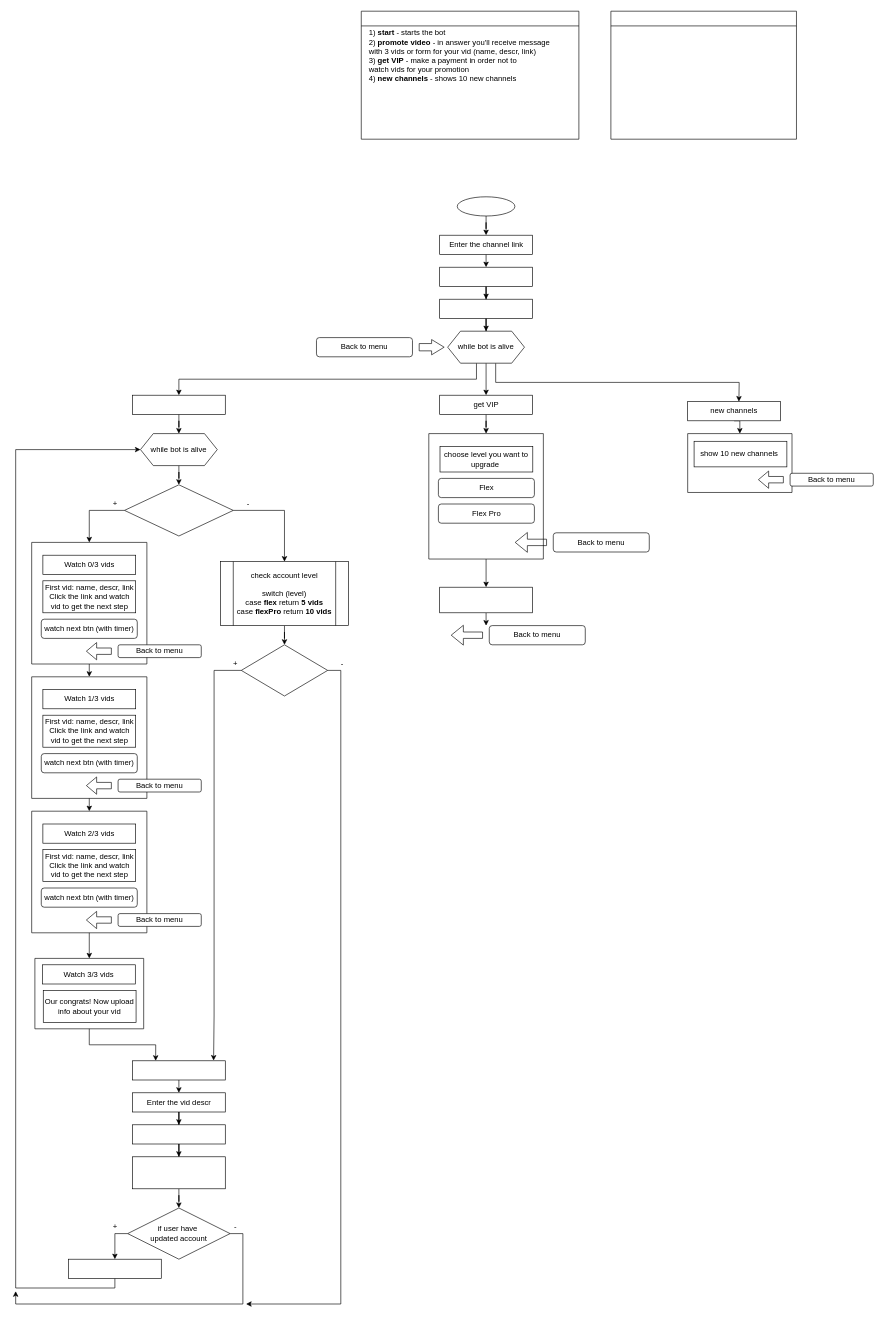
Some shapes in this 884 by 1320 pixel diagram are drawn without their labels. The box of each missing label's shape, as (x1, y1, x2, y2) in pixels:
Admin Comands: (610, 11, 796, 139)
Available vids --: (68, 1259, 161, 1278)
Enter the channel descr: (439, 267, 532, 286)
Enter the channel name: (439, 299, 532, 318)
Enter the vid link: (132, 1060, 225, 1080)
Enter the vid name: (132, 1124, 225, 1144)
if uploading is available: (241, 644, 328, 696)
if(not VIP && watched not 3): (124, 484, 233, 536)
Our congrats! Your vid is promoting now!: (132, 1156, 225, 1189)
Promote your vid: (132, 395, 225, 414)
Start: (457, 196, 515, 216)
updating account level: (439, 587, 532, 613)
User Comands: (361, 11, 579, 139)
